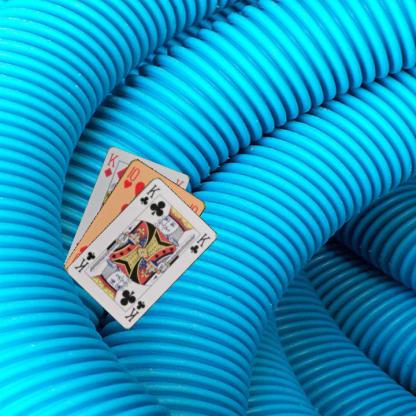10h: (121, 163, 141, 189)
Kc: (121, 298, 147, 323), (137, 181, 162, 206)
Kd: (101, 150, 120, 179)
